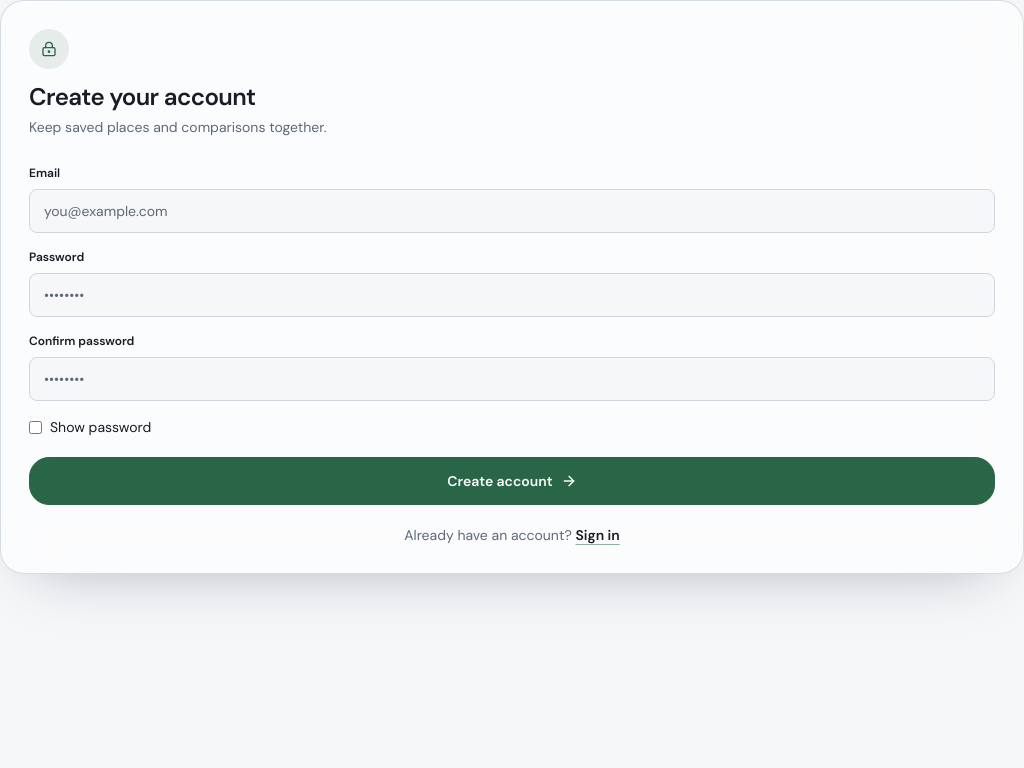
Scenario: shows passwords on request and focuses the first invalid field
Later steps or results of the test are not shown.
Click the button "Create account".
click(512, 481)  # box top-left (29, 457), bottom-right (995, 505)
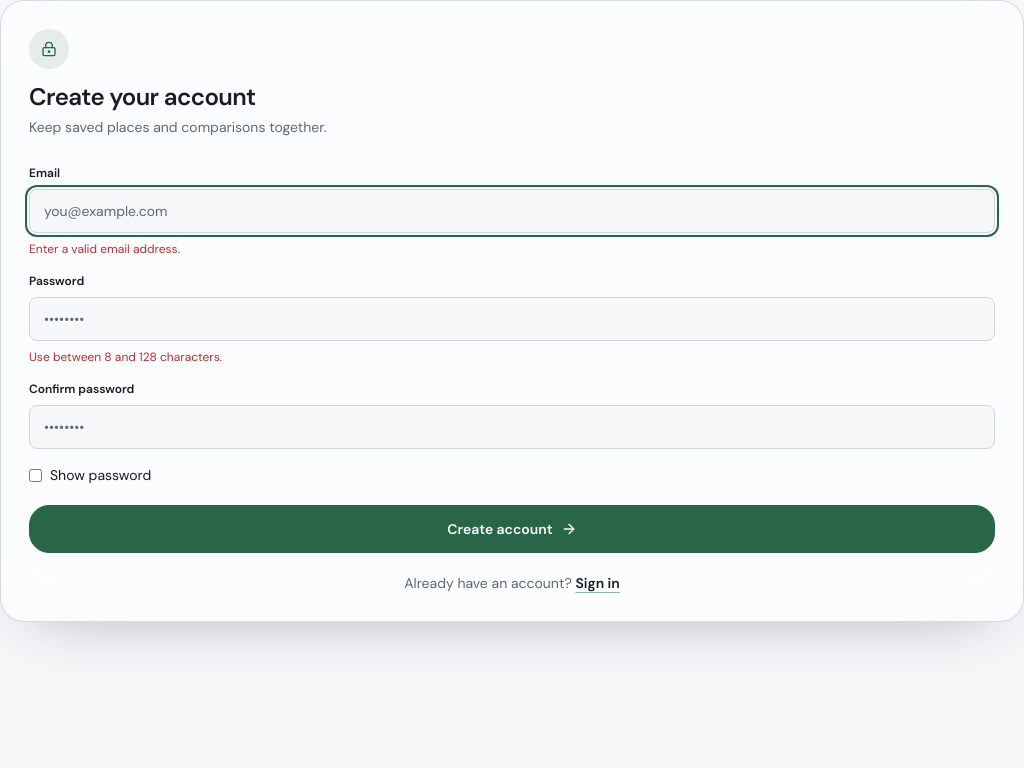
Result: the text "Enter a valid email address." is shown at top-left (29, 241), bottom-right (180, 257)
